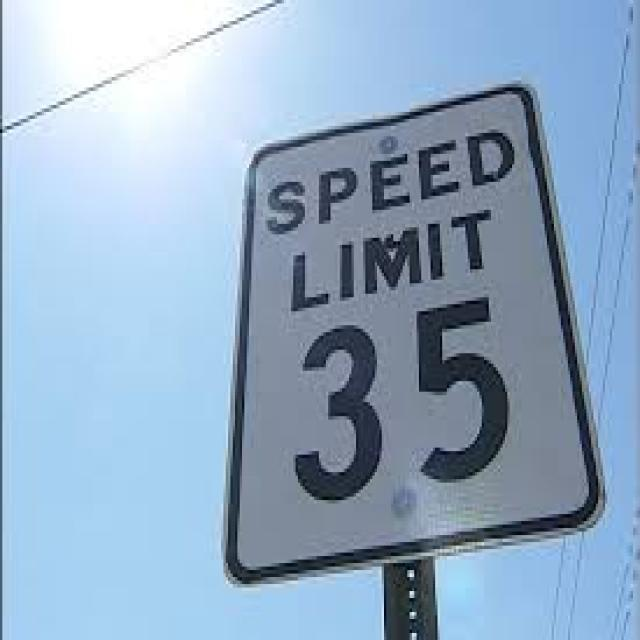speedLimit35: (221, 79, 601, 593)
